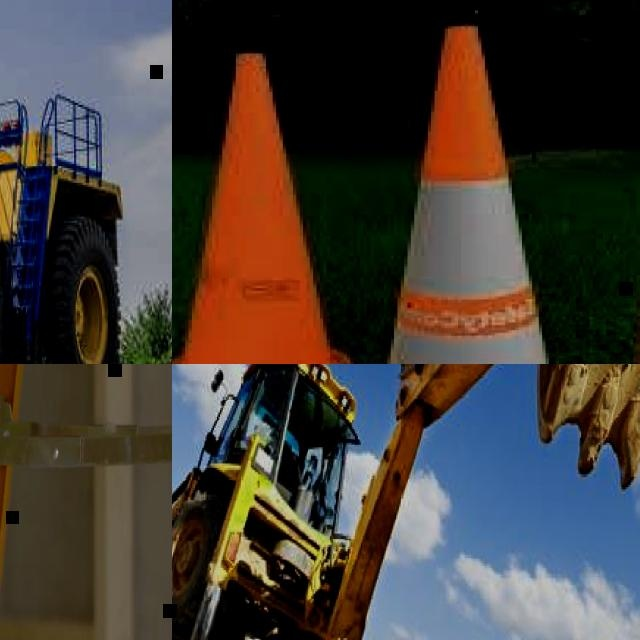Safety Cone: (337, 23, 603, 364), (172, 53, 360, 364)
machinery: (172, 364, 640, 640), (0, 0, 122, 364)
